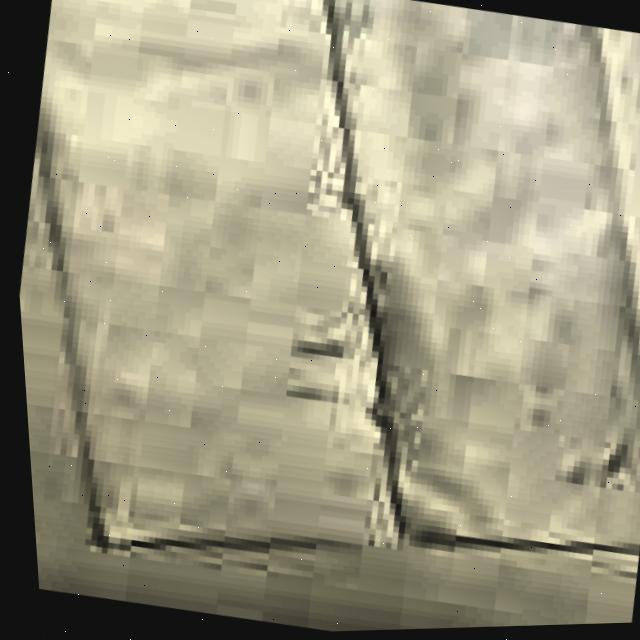paper: (30, 0, 640, 558)
